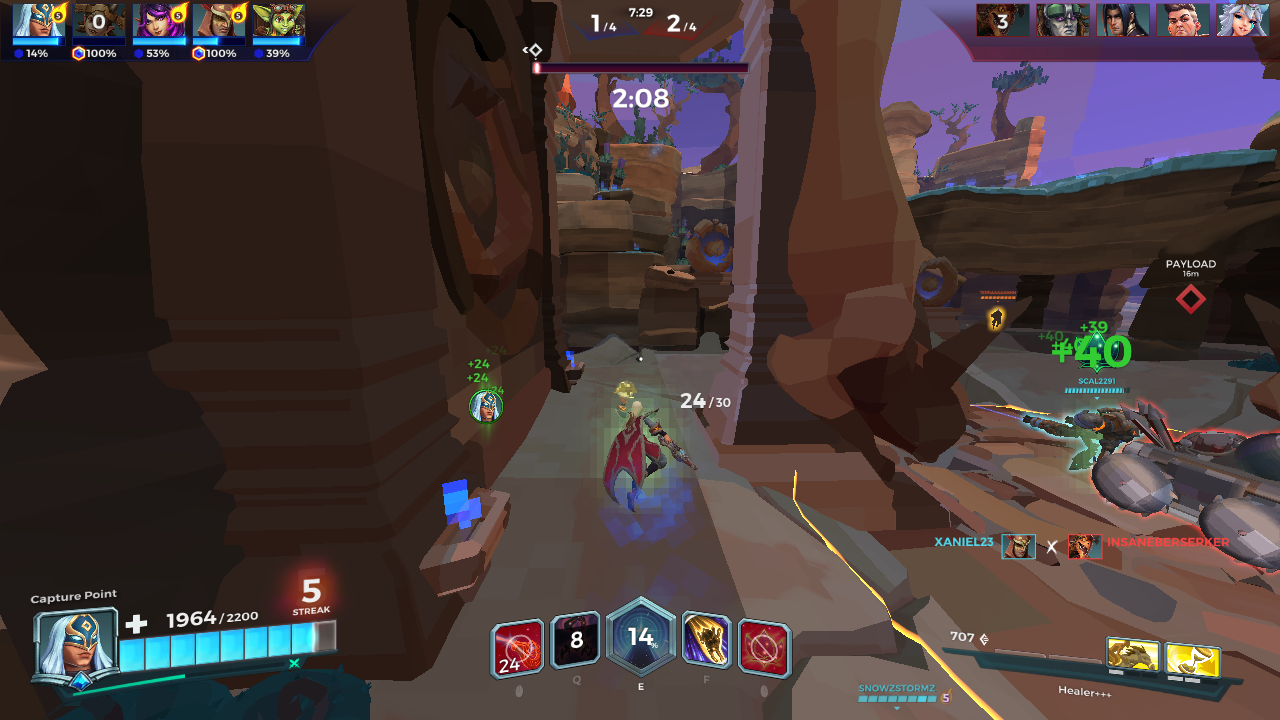model: (984, 304, 1008, 337)
